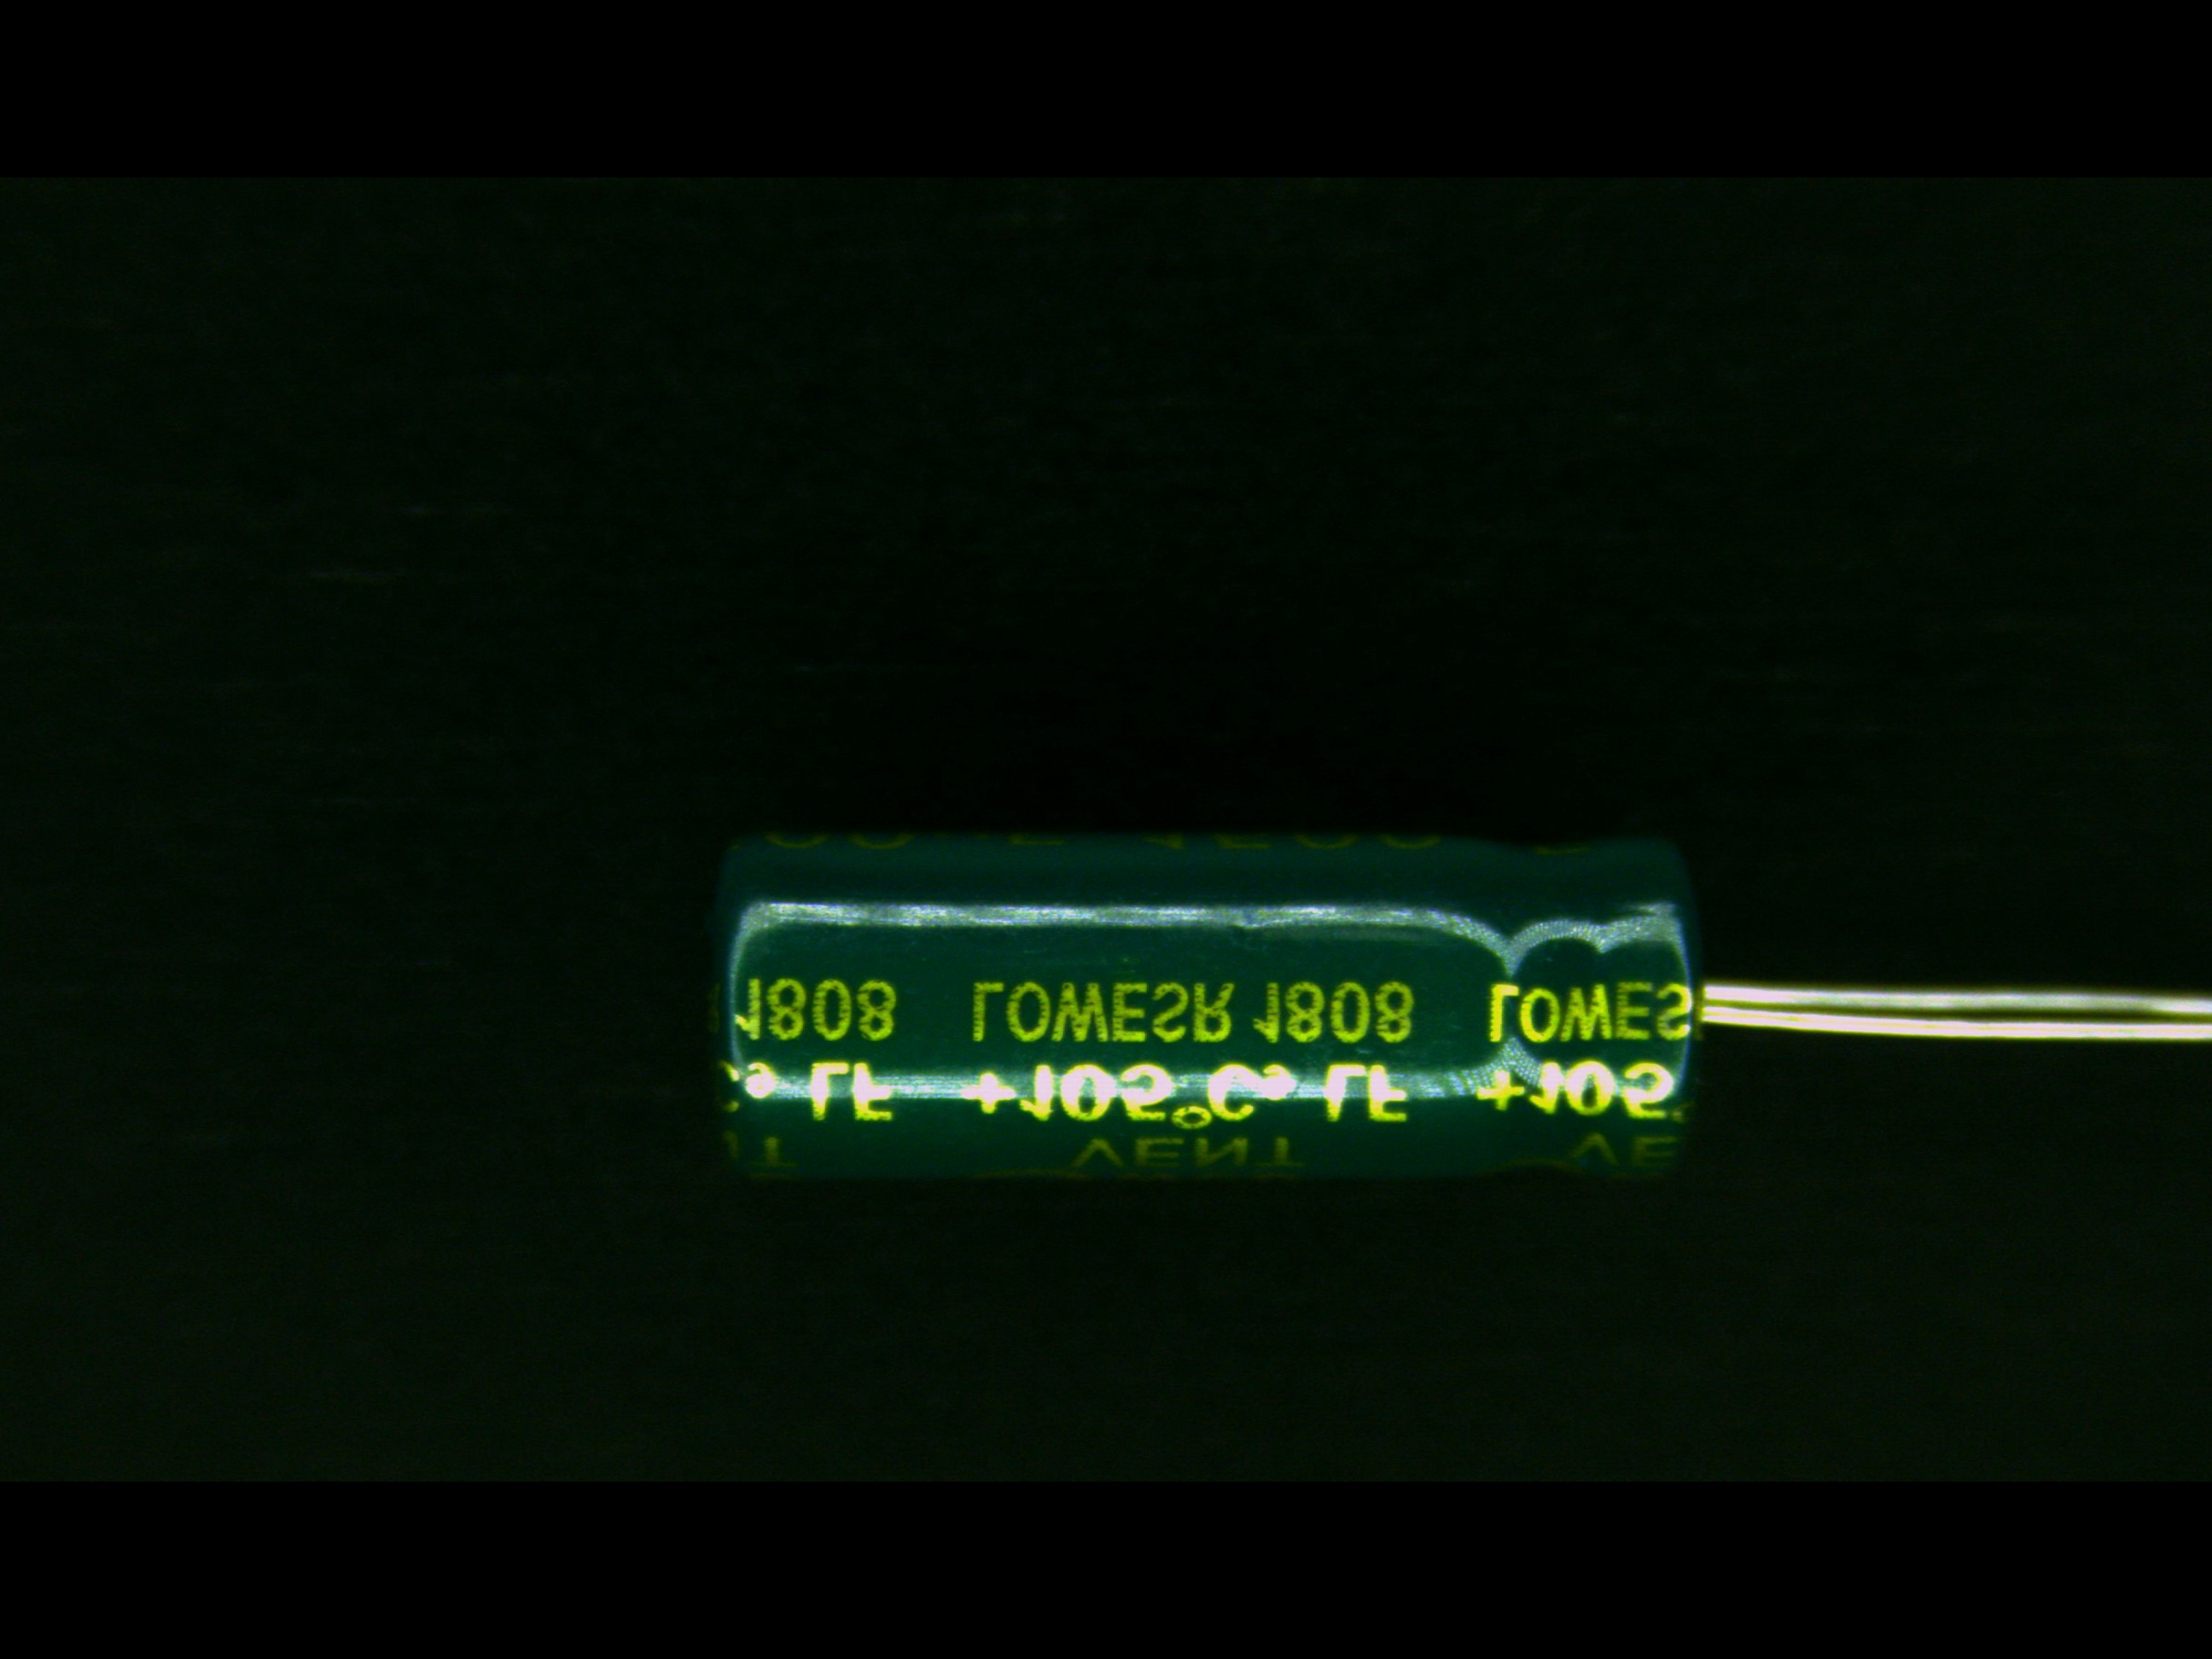c1: (702, 826, 1810, 1168)
